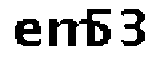3: (118, 4, 151, 52)
6: (86, 6, 115, 49)
e: (11, 15, 44, 50)
m: (45, 14, 91, 49)
